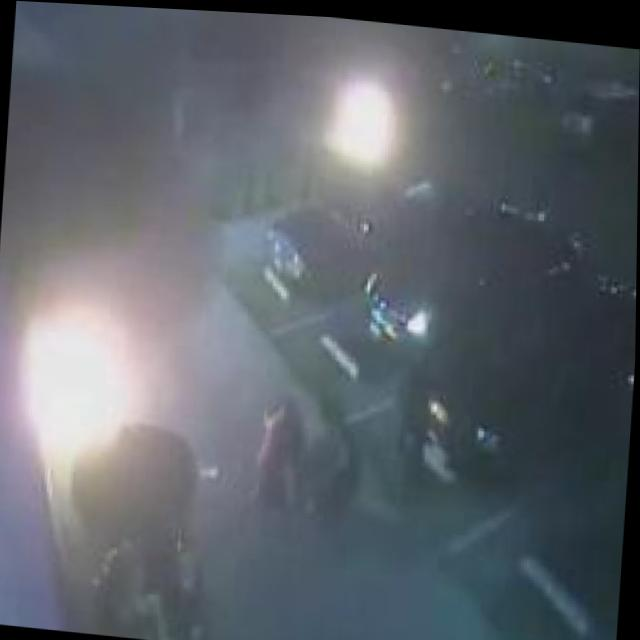fire: (4, 293, 155, 478), (309, 55, 412, 184)
